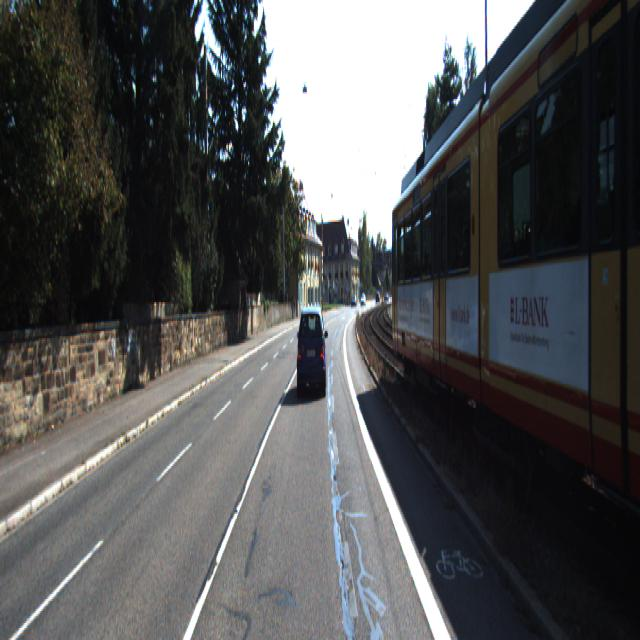Car: (480, 0, 639, 610), (392, 64, 558, 462), (298, 304, 328, 401)
